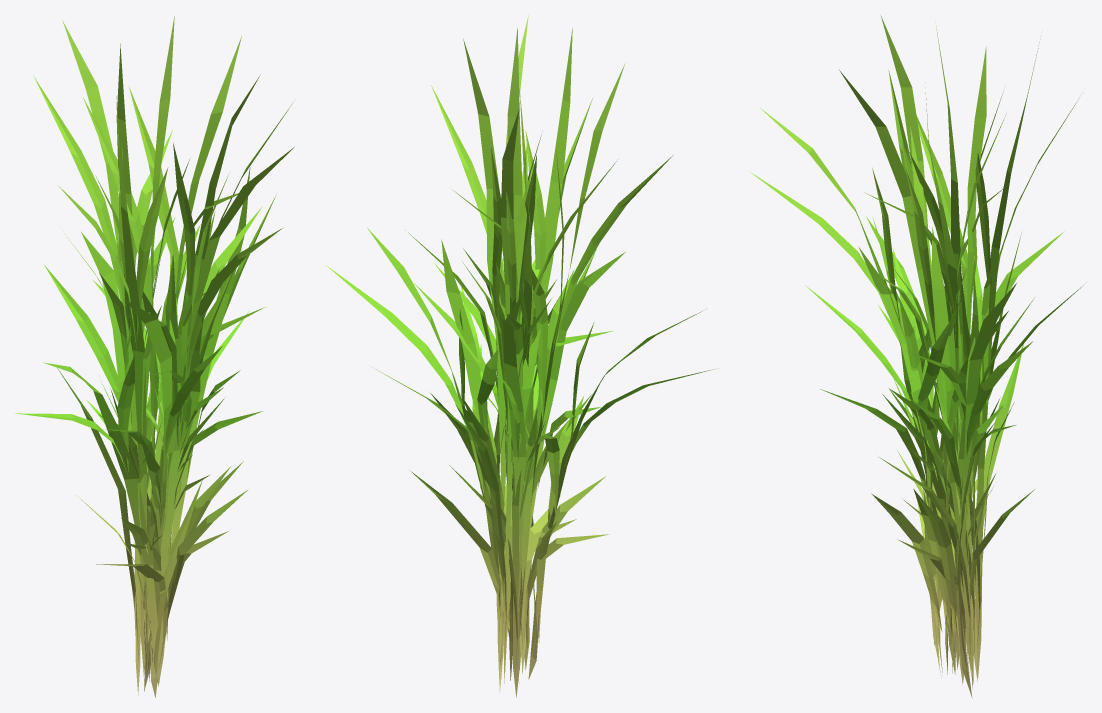
Rendered from Rice7_LOD.fbx.
3 renders of one model, left to right at view 1: azimuth 30°, elevation 25°; view 2: azimuth 150°, elevation 25°; view 3: azimuth 270°, elevation 25°, orthographic. The views are drawn at different scales.
Visible parts, largest first — view 1: Rice7_LOD0; view 2: Rice7_LOD0; view 3: Rice7_LOD0.
Boxes of the visible parts, box(x1,y1,x2,y2) form: Rice7_LOD0: box(15, 16, 294, 697); Rice7_LOD0: box(326, 15, 716, 697); Rice7_LOD0: box(750, 15, 1086, 697).
Size of what is drawn, in the model's own units: 294 by 571 by 258.
1 material, 1 textured.
